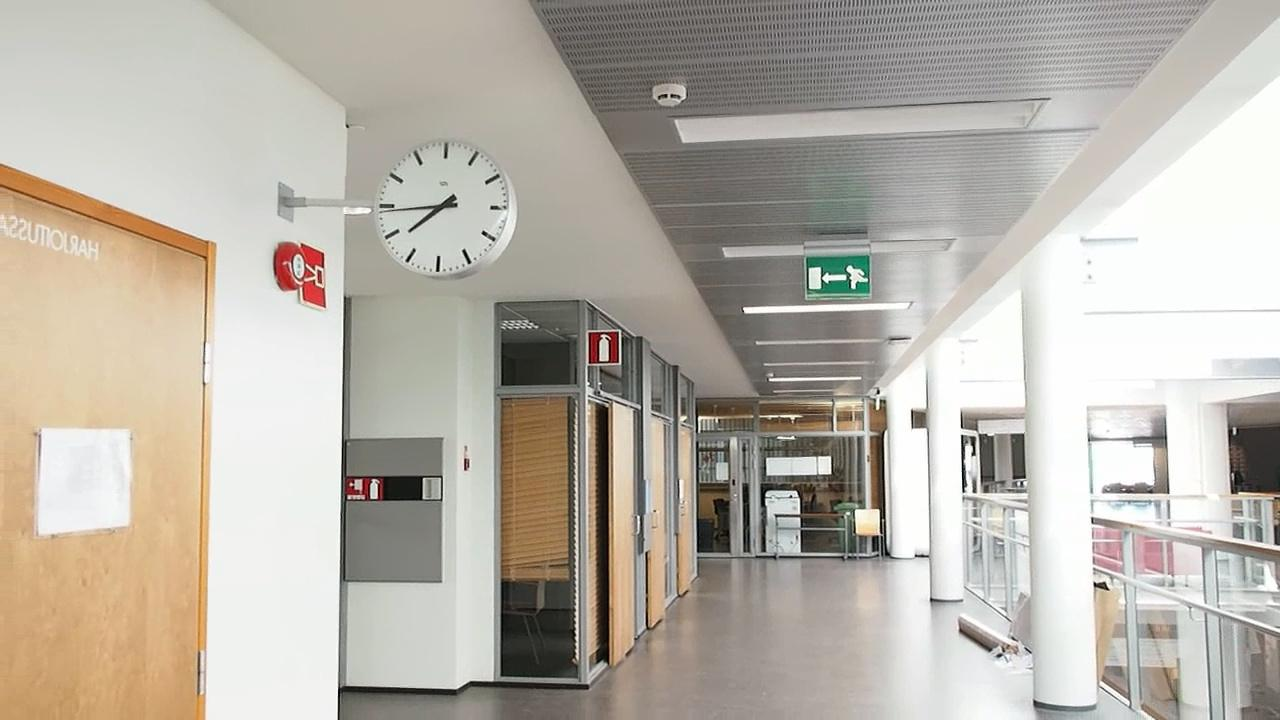clock: (366, 131, 520, 279)
exit: (810, 255, 879, 298)
